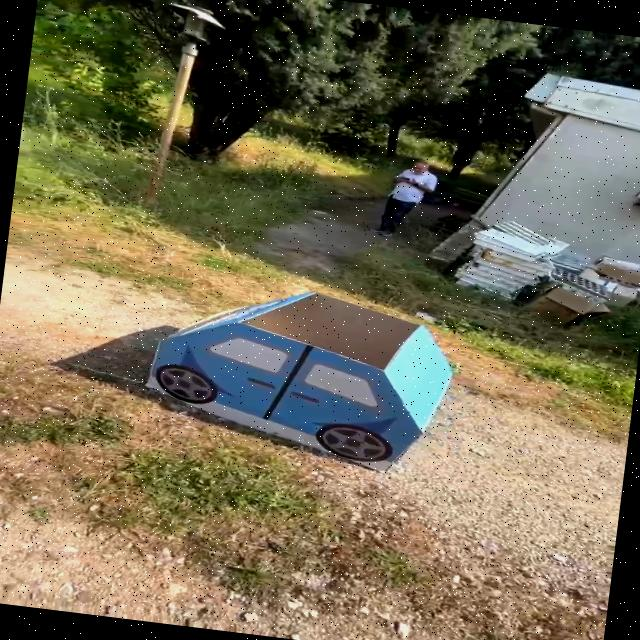blue_car: (122, 261, 477, 484)
